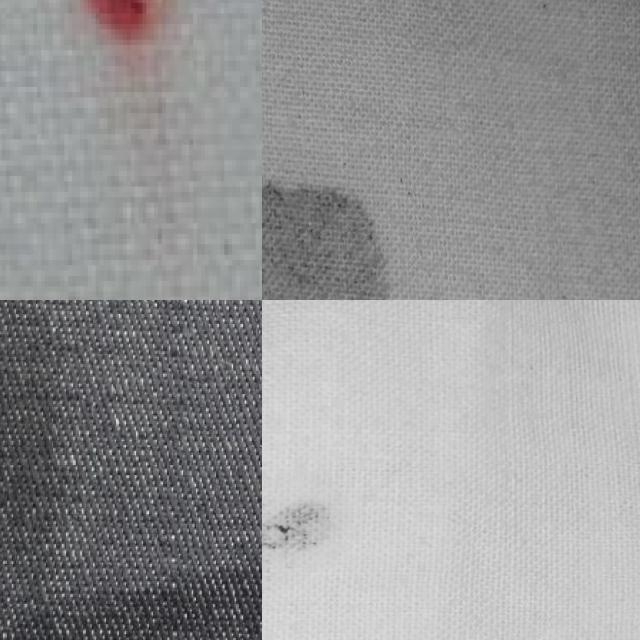Thread_other: (262, 160, 414, 300), (262, 458, 348, 585), (42, 0, 199, 63)
